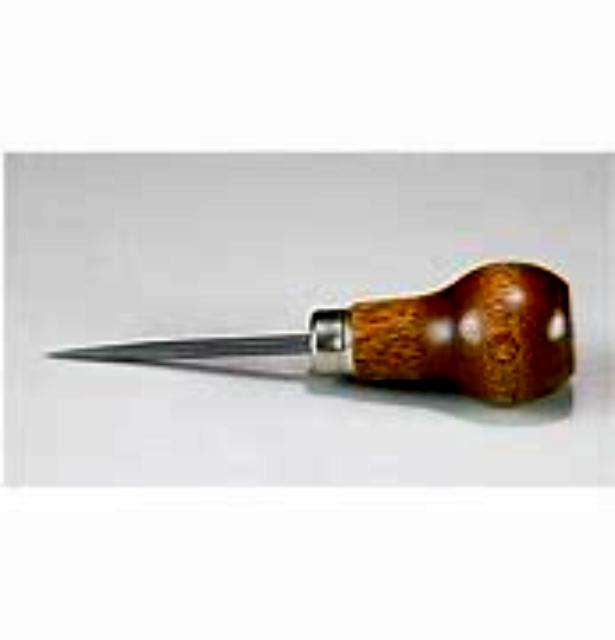ice pick: (42, 263, 576, 423)
